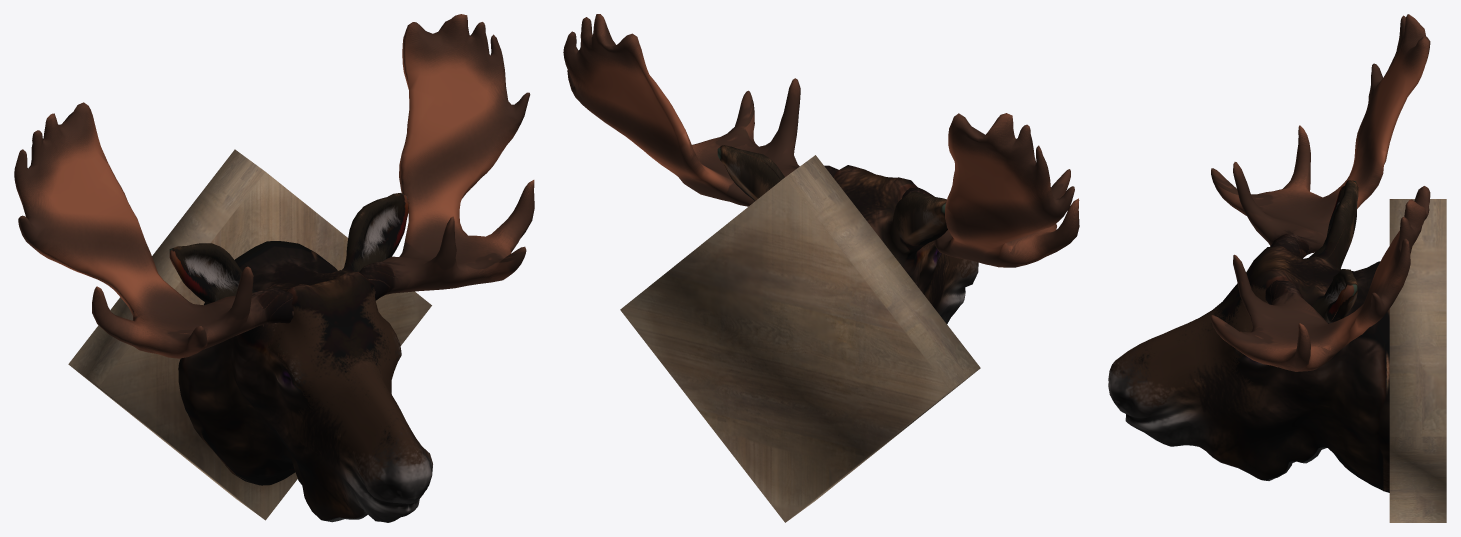
Rendered from elk_trophy.glb.
The picture shows the model from 3 angles, left to right: view 1: azimuth 30°, elevation 25°; view 2: azimuth 150°, elevation 25°; view 3: azimuth 270°, elevation 25°; orthographic projection. The views are drawn at different scales.
Bounding box in the file's own units: 48.06 × 40.31 × 29.7.
1 material, 1 textured.
